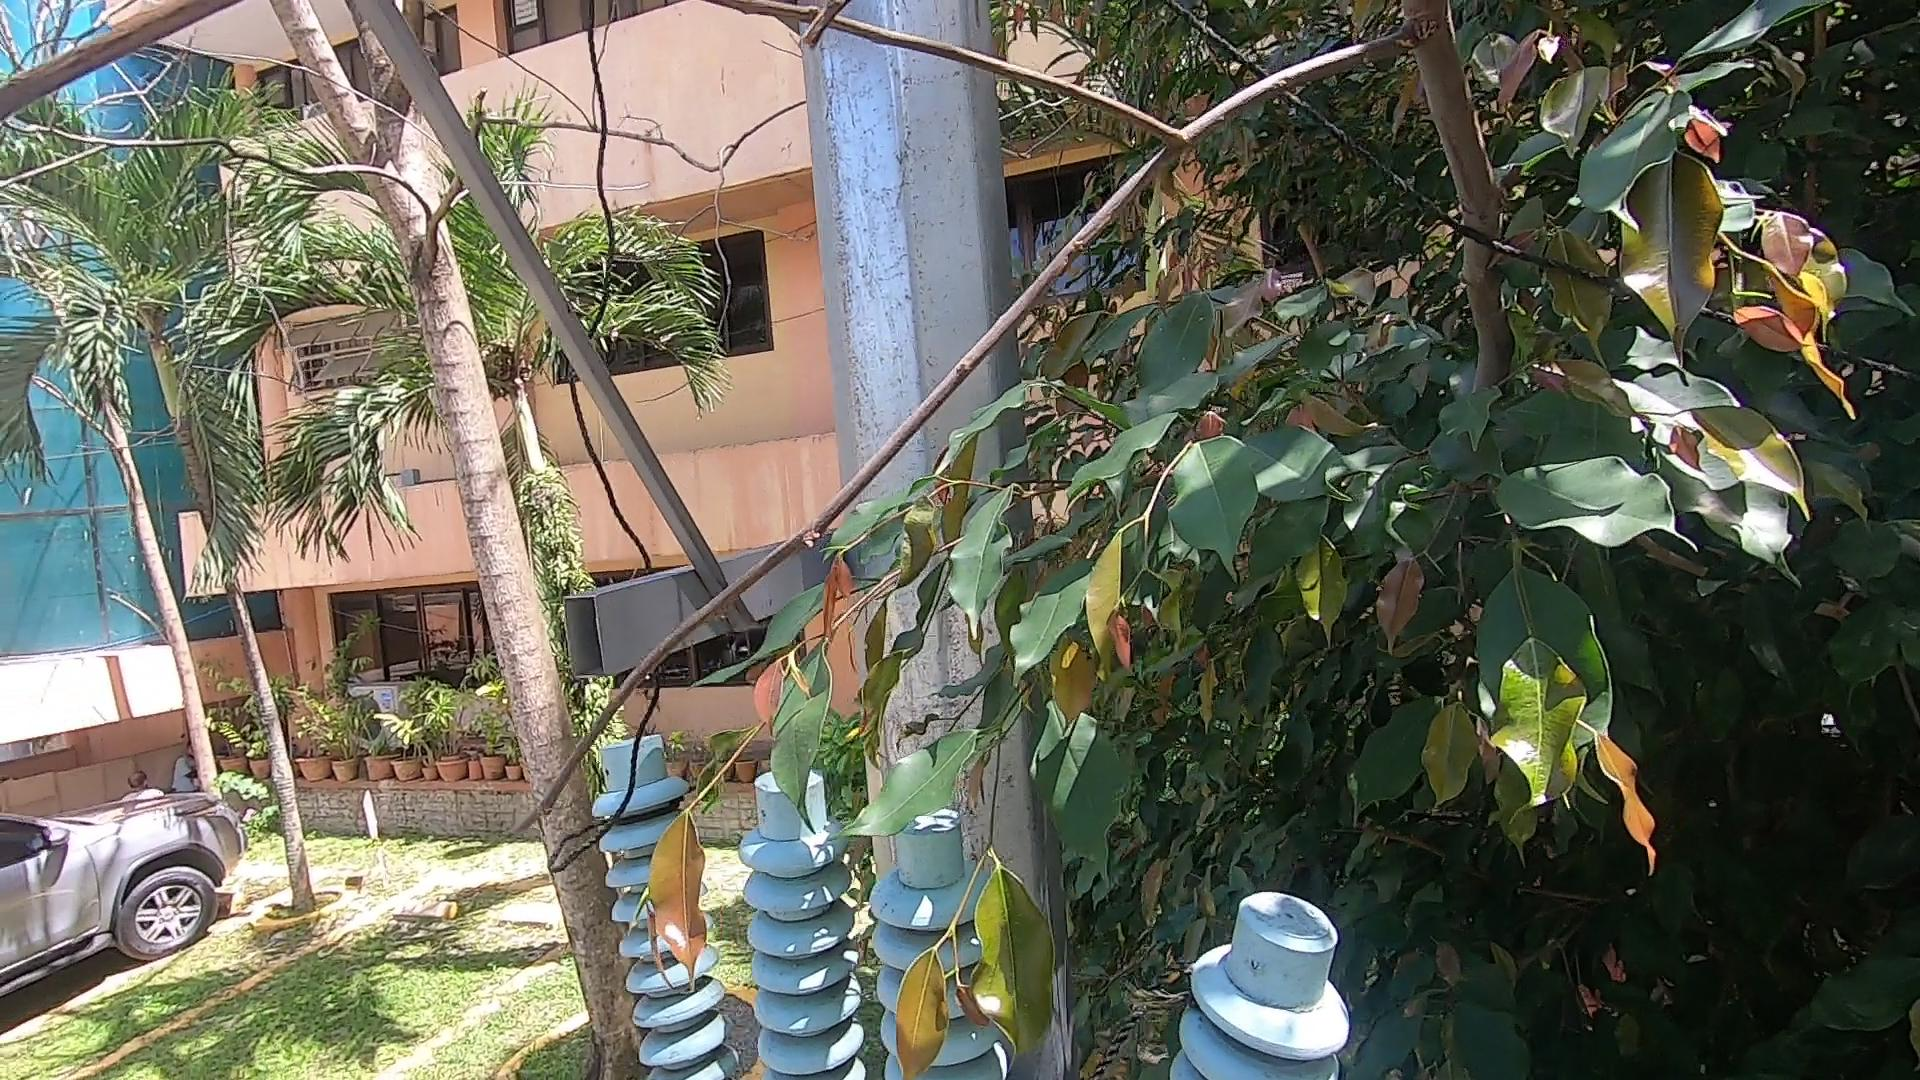tree branch: (508, 1, 1538, 852)
